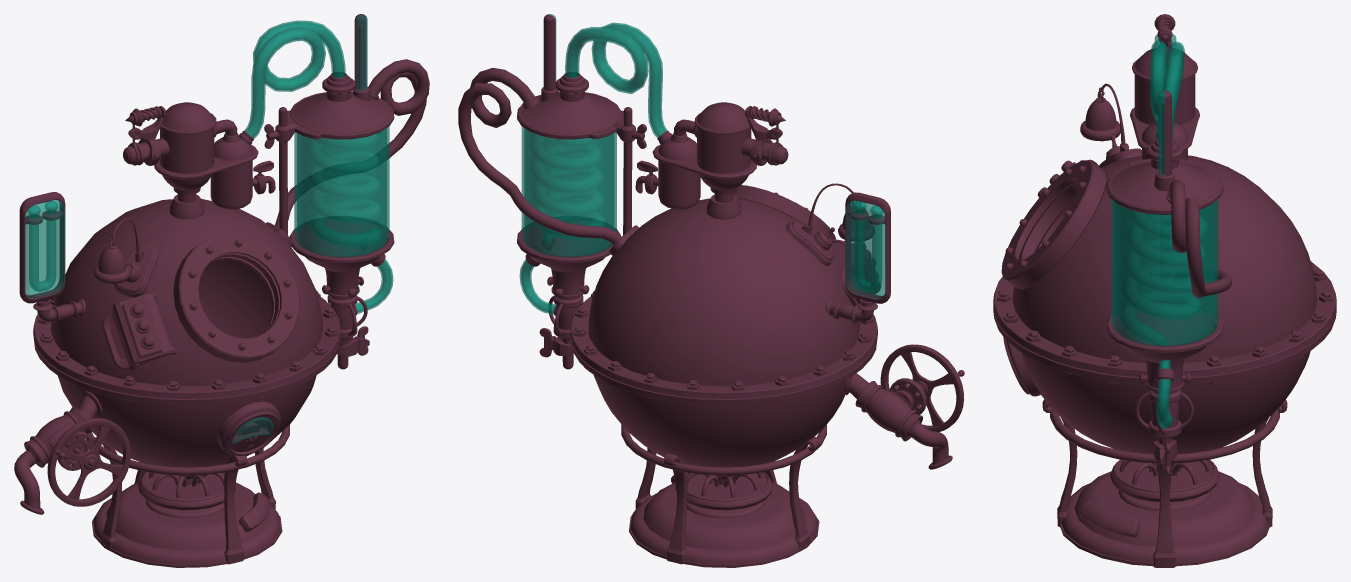
The model's file is cauldron_machine_nouv.fbx.
3 views of the same model, side by side, from view 1: azimuth 30°, elevation 25°; view 2: azimuth 150°, elevation 25°; view 3: azimuth 270°, elevation 25° (orthographic). The views are drawn at different scales.
Parts seen in each view (by area): view 1: cauldron_machine, wheel; view 2: cauldron_machine, wheel; view 3: cauldron_machine.
Part boxes in pixels (x1,y1,x2,y2): cauldron_machine: [14, 14, 429, 567]; wheel: [47, 418, 130, 506]; cauldron_machine: [458, 14, 952, 567]; wheel: [880, 344, 964, 431]; cauldron_machine: [993, 14, 1336, 567].
Bounding box in the file's own units: 2.59 × 2.63 × 1.54.
